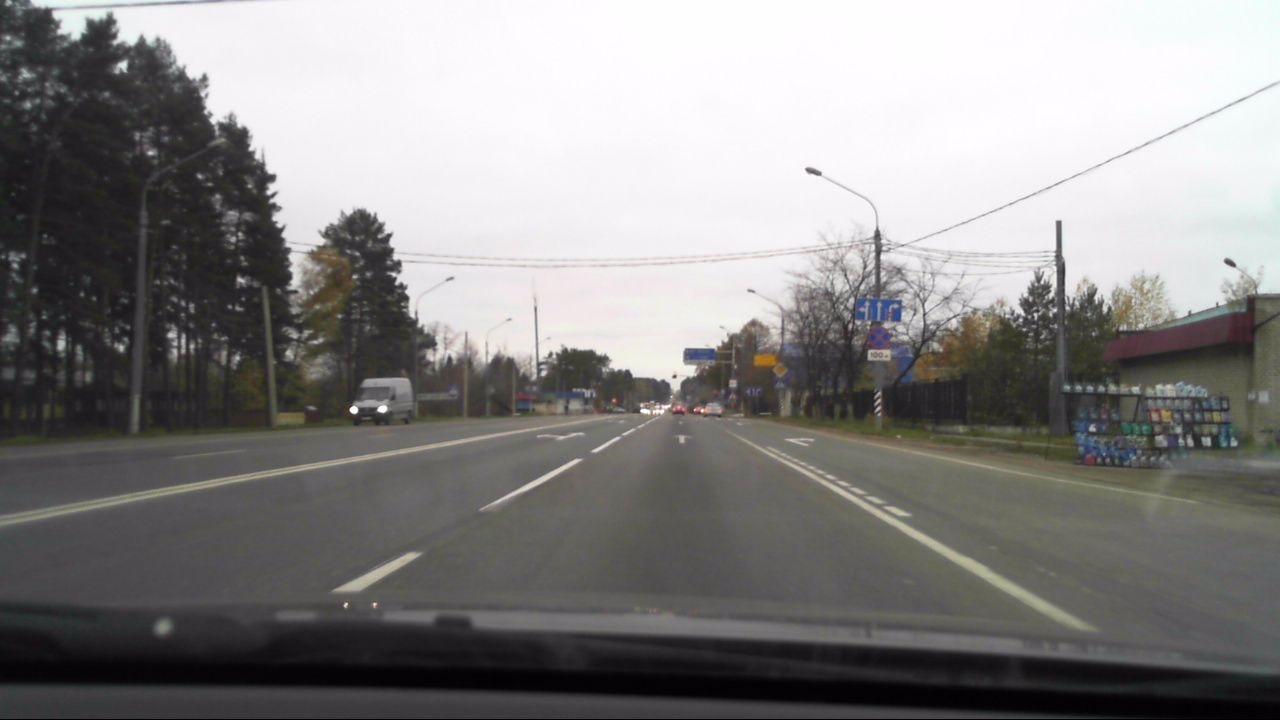No Parking: (865, 326, 889, 348)
